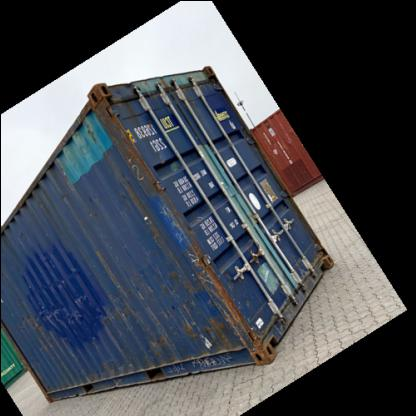Damage: (166, 245, 218, 351), (36, 295, 93, 328), (110, 272, 146, 320), (68, 356, 139, 378), (124, 140, 150, 182), (72, 110, 100, 148), (50, 184, 78, 214)
